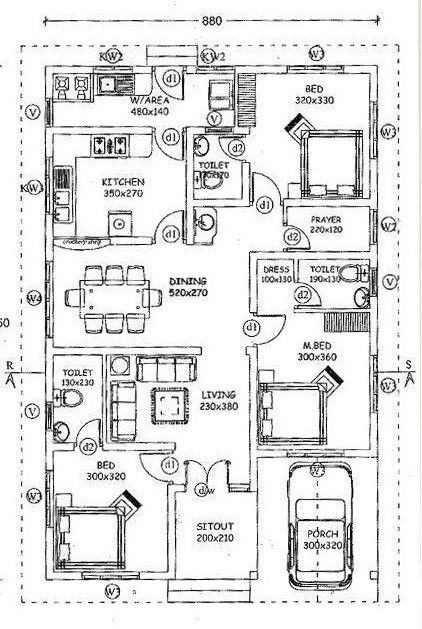door: (137, 447, 179, 493), (144, 202, 191, 243), (180, 456, 236, 489), (151, 119, 189, 166), (151, 64, 194, 103), (251, 312, 289, 355), (252, 166, 286, 210), (70, 413, 110, 450), (275, 219, 313, 252), (294, 276, 329, 309)
room: (55, 238, 248, 345), (238, 65, 372, 208), (255, 313, 376, 455), (44, 128, 187, 239), (53, 450, 170, 575), (105, 354, 242, 444), (44, 66, 235, 128), (168, 486, 257, 582), (250, 249, 370, 311), (188, 128, 254, 208), (51, 354, 107, 448), (281, 198, 374, 254)
wall: (241, 346, 266, 493), (44, 338, 208, 356), (244, 245, 381, 264), (162, 482, 186, 579), (178, 120, 196, 246), (90, 346, 112, 446), (100, 432, 176, 458), (282, 196, 384, 212), (240, 248, 263, 316), (44, 124, 155, 138), (235, 57, 293, 83), (34, 56, 96, 80), (245, 437, 292, 468), (36, 211, 64, 262), (184, 191, 255, 211), (39, 527, 60, 586), (40, 429, 66, 475), (342, 443, 390, 466), (362, 409, 382, 462), (42, 337, 56, 406), (366, 293, 381, 356), (235, 161, 254, 210), (344, 56, 380, 80), (367, 157, 382, 213), (141, 567, 178, 588), (41, 126, 60, 163), (367, 63, 382, 106), (35, 64, 51, 100), (132, 58, 155, 79)
window: (38, 259, 70, 337), (285, 438, 346, 464), (290, 56, 346, 84), (40, 260, 60, 337), (80, 568, 144, 588), (94, 54, 138, 77), (42, 471, 59, 530), (93, 56, 134, 77)
